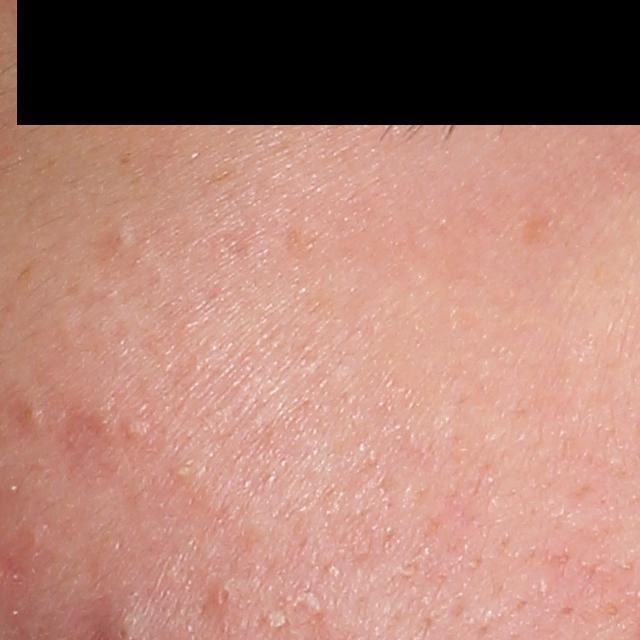comedo: (117, 416, 148, 445), (209, 581, 238, 610), (170, 458, 202, 481), (21, 400, 44, 426)
